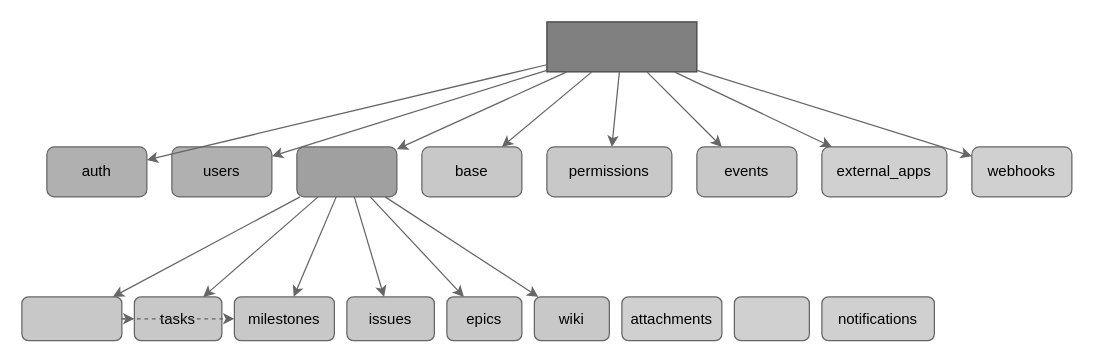
Some shapes in this 1094 by 363 pixel diagram are drawn without their labels. Each missing label, with the centre of its shape:
"history" belongs at pixel 771 318.
"projects" belongs at pixel 346 171.
"taiga (核心)" belongs at pixel 621 46.
"userstories" belongs at pixel 71 318.
